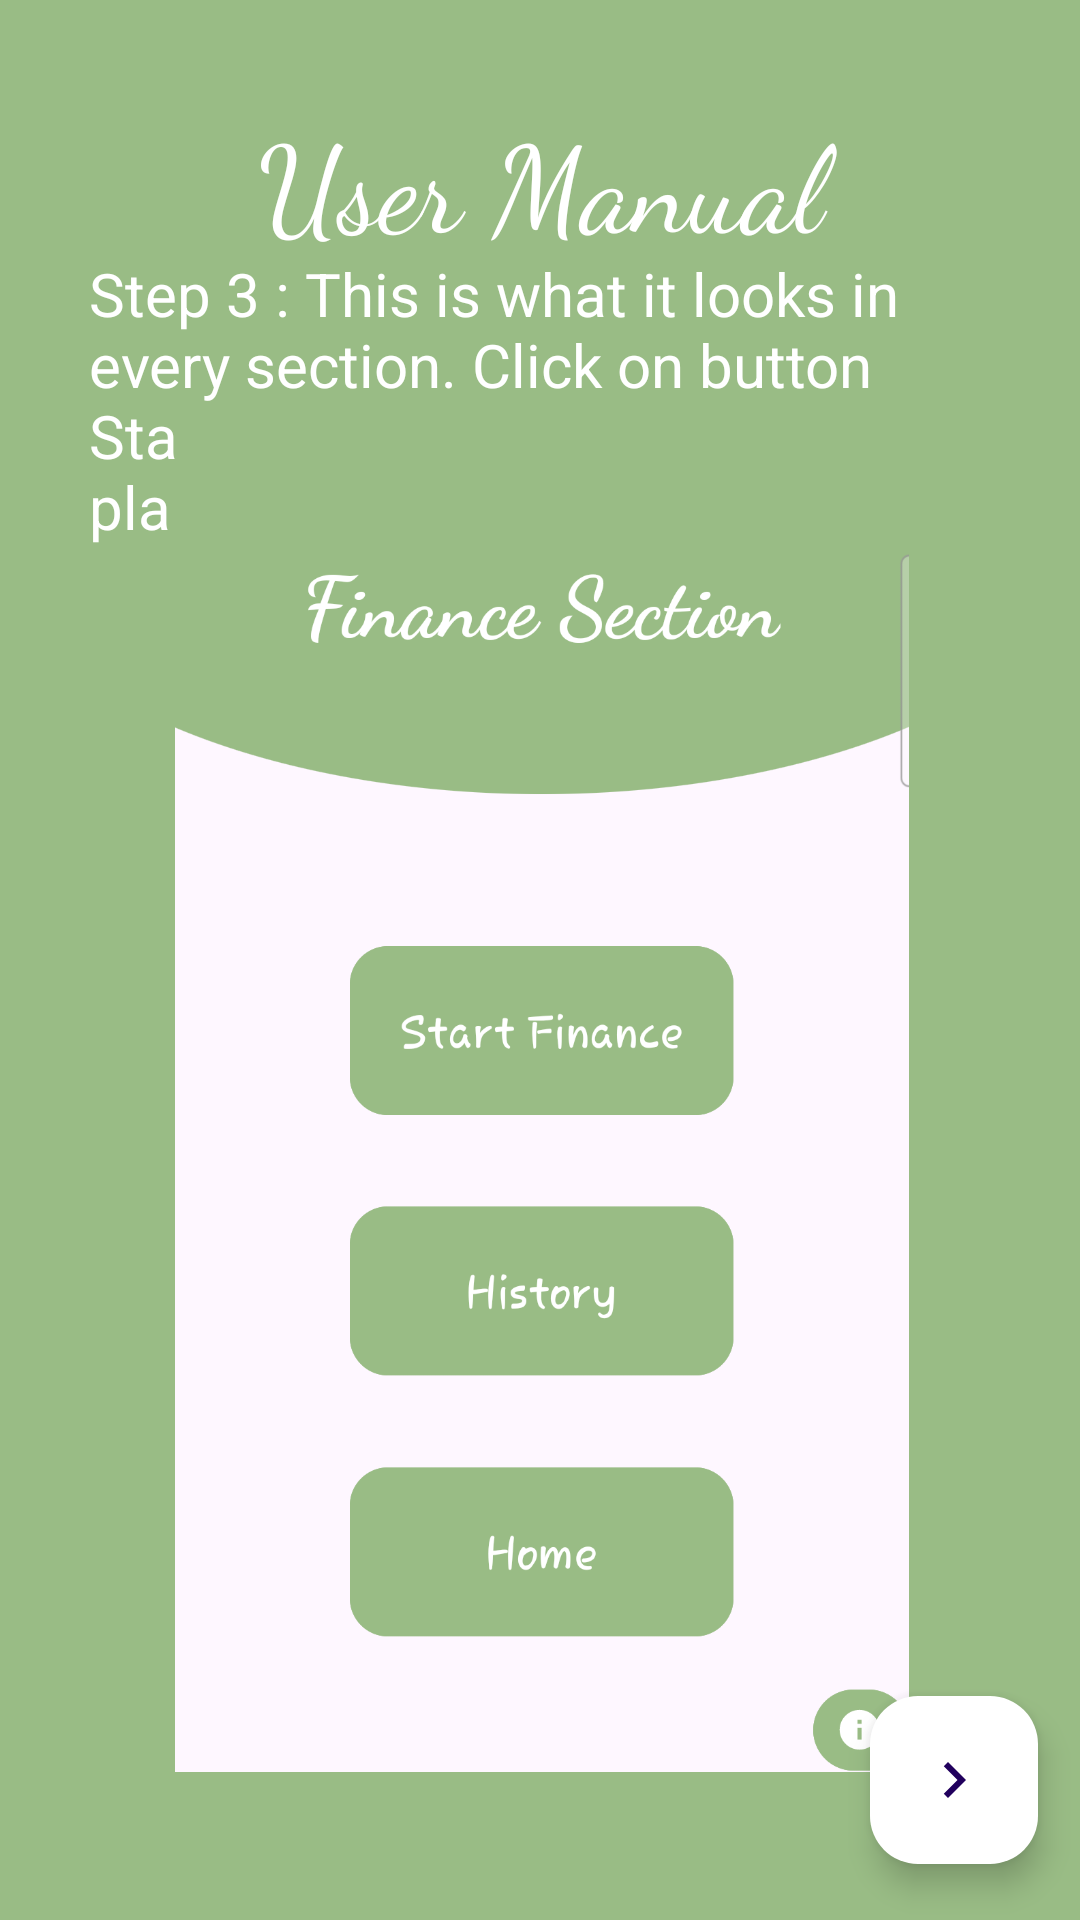

Locate icon controls on the screen. Image size 1080×1920, boxes as bbox(x1, y1, x2, y2).
navigate next: bbox(870, 1696, 1038, 1864)
